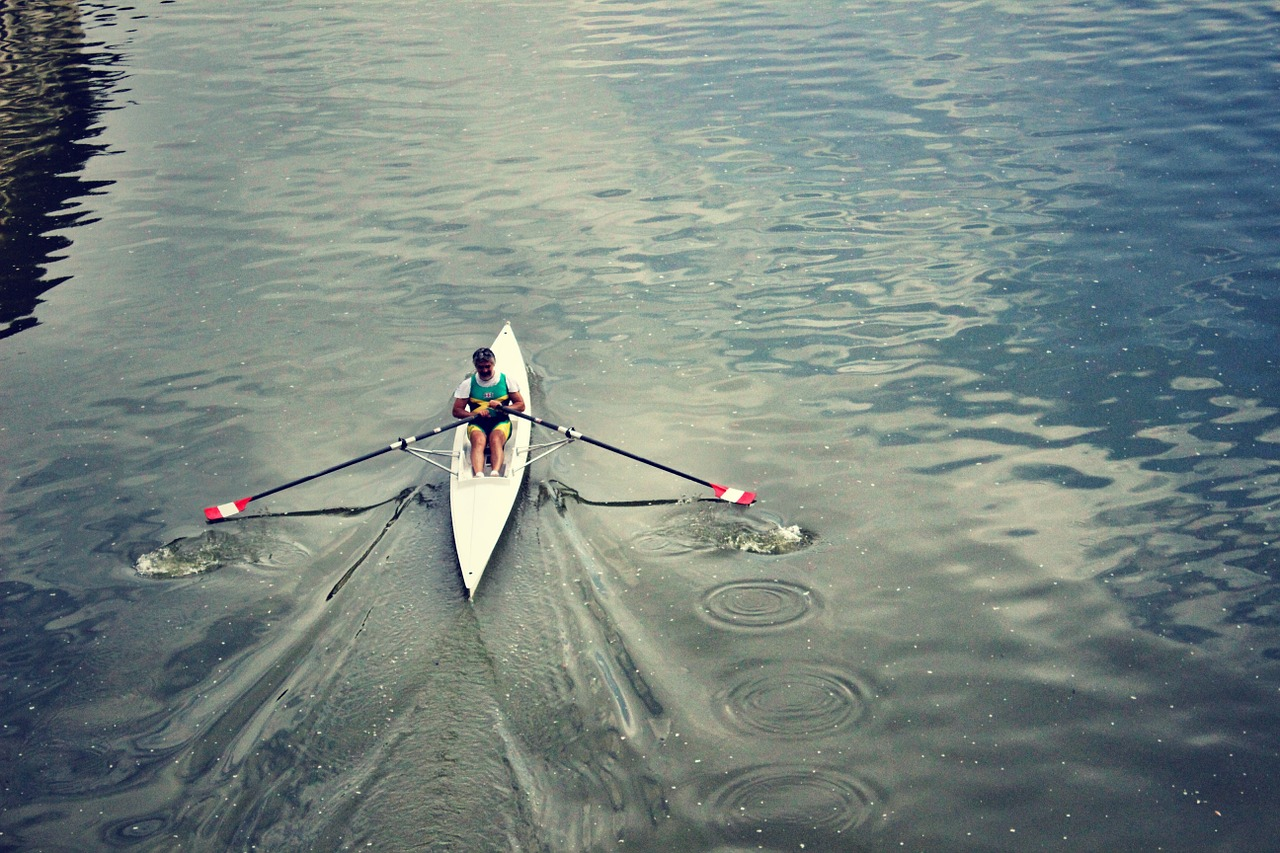kayak: (439, 309, 553, 618)
